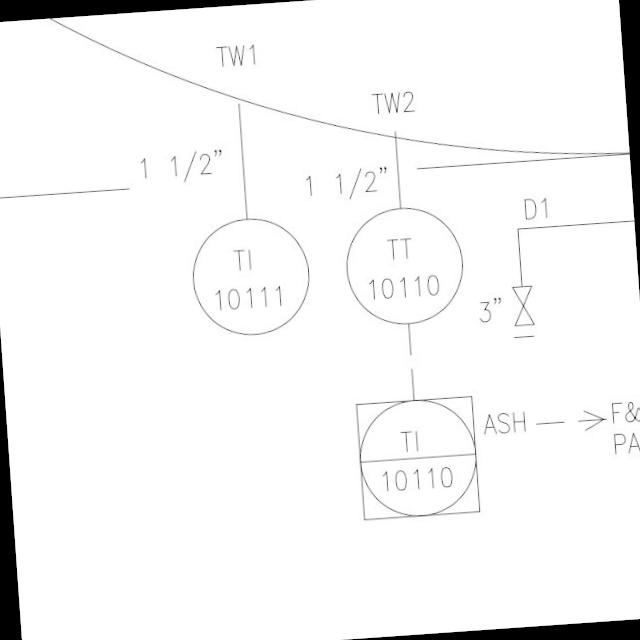GV: (508, 280, 536, 331)
